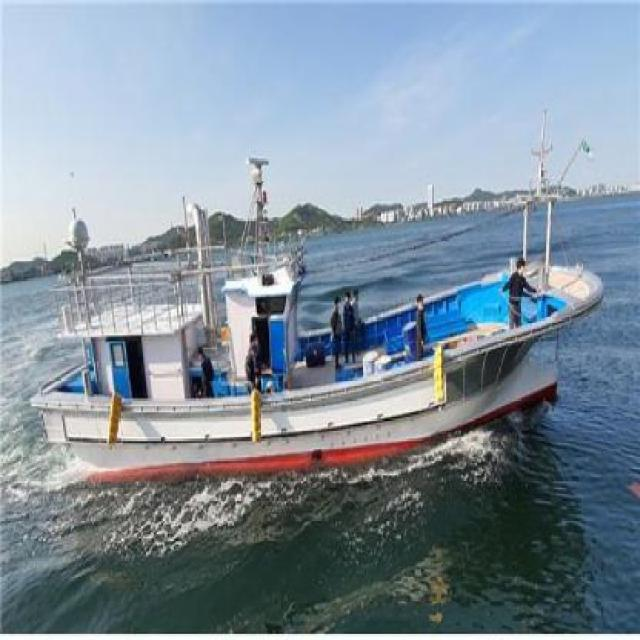fish-b: (23, 145, 610, 486)
